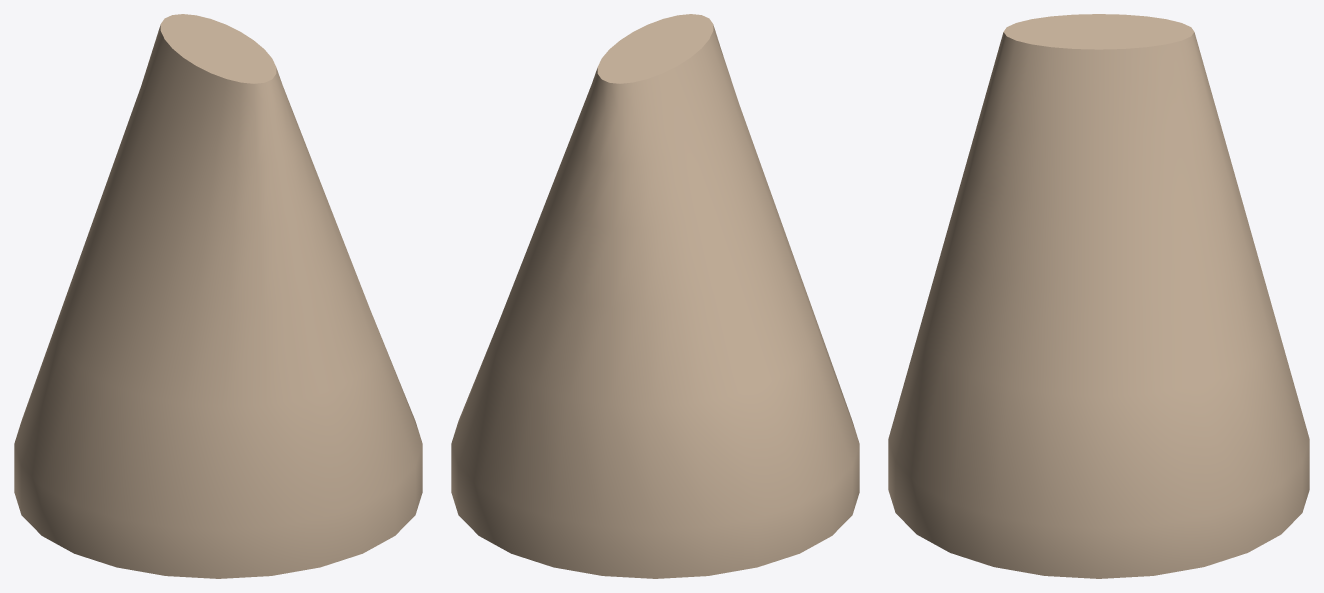
File: spektr_cone_normal_source.obj
The picture shows the model from 3 angles, left to right: view 1: azimuth 30°, elevation 25°; view 2: azimuth 150°, elevation 25°; view 3: azimuth 270°, elevation 25°; orthographic projection. The views are drawn at different scales.
Parts seen in each view (by area): view 1: src; view 2: src; view 3: src.
Boxes of the visible parts, left/top/right/bottom form: src: left=14, top=14, right=422, bottom=578; src: left=451, top=14, right=859, bottom=578; src: left=888, top=14, right=1309, bottom=578.
Size of the model in its own units: 1.88 by 2.25 by 1.88.
